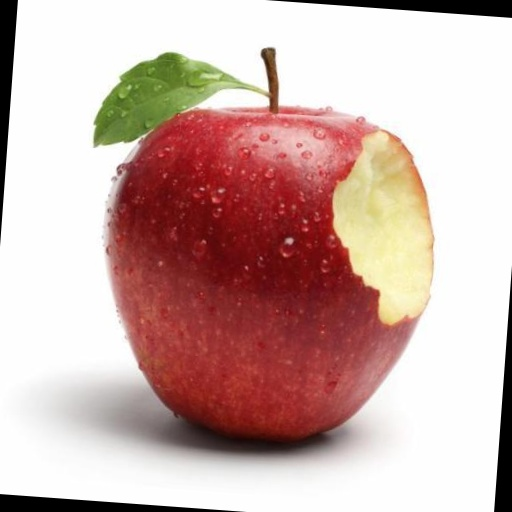fruit: (354, 138, 485, 492), (131, 88, 134, 90), (274, 91, 275, 97), (206, 76, 209, 78)
